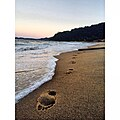human_footprint: (36, 90, 55, 110), (66, 68, 72, 73)
